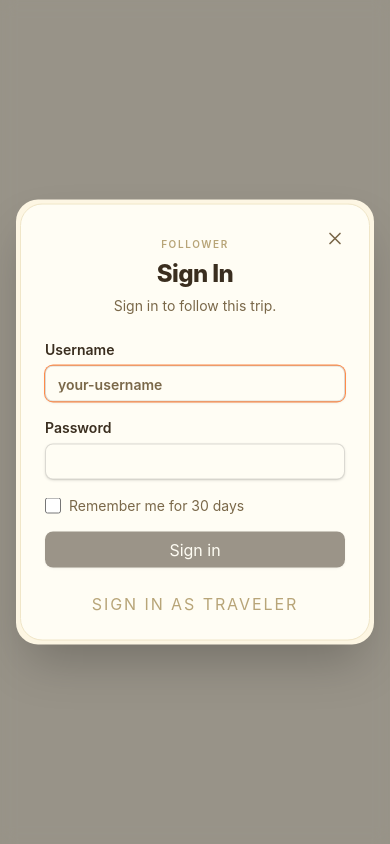
LoginModal › switches to traveler sign in
Step 1. Click the button "Sign in as Traveler" → (195, 604), box [92,592,298,616]
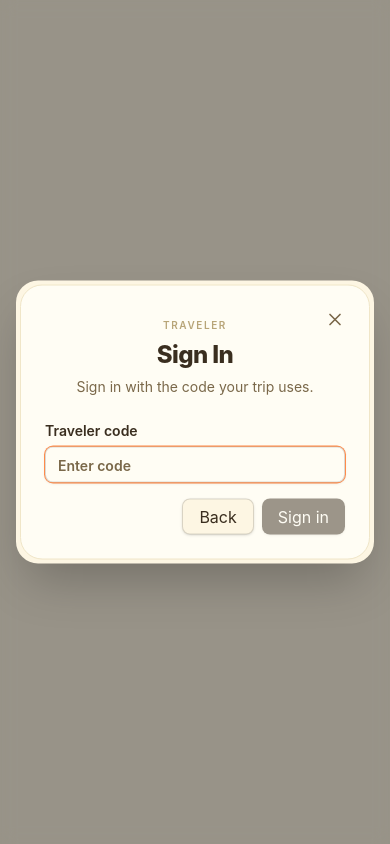
Expected: the dialog "Traveler Sign In" is shown, [16,280,374,564]
